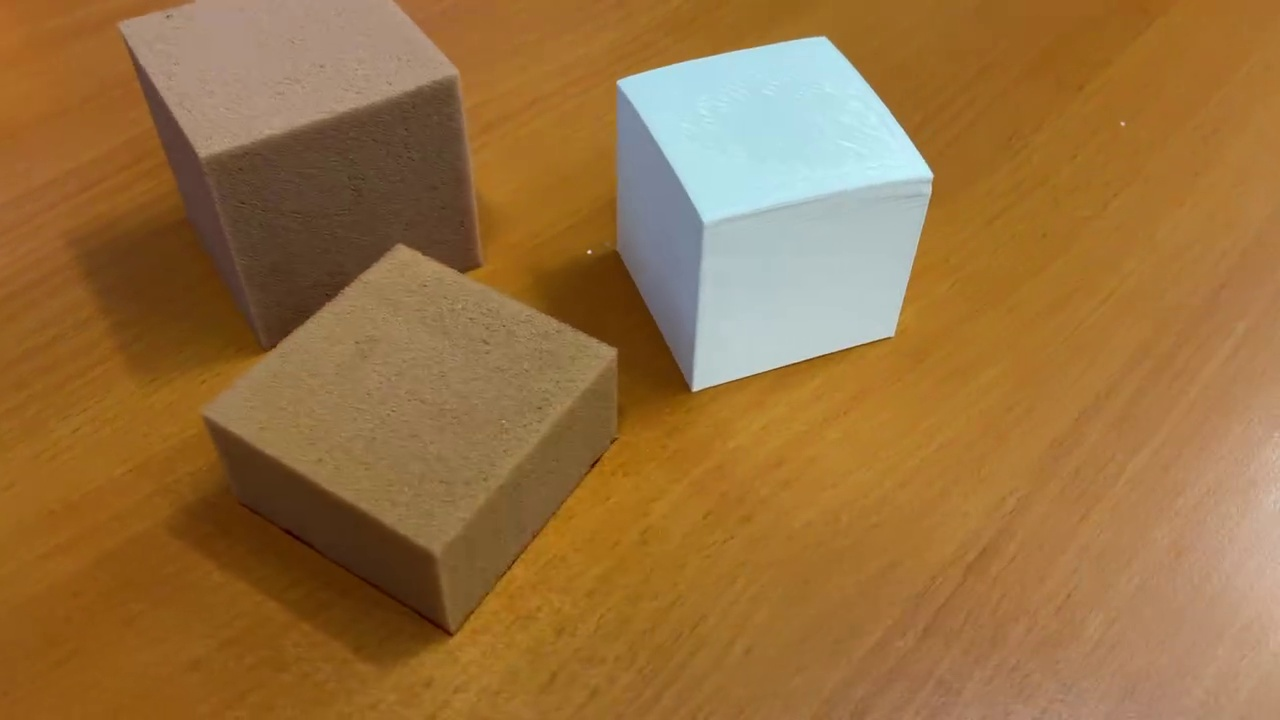Cube: (111, 1, 487, 360), (604, 29, 952, 402)
Cube_short: (188, 234, 624, 642)
